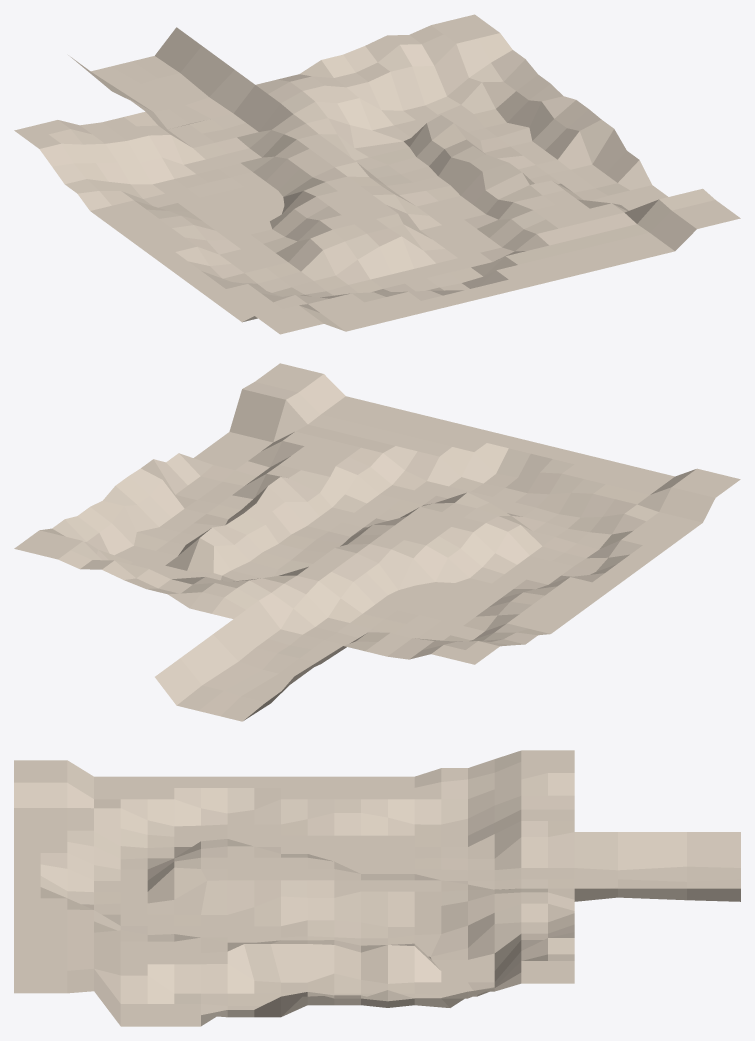
The model's file is 042020map01ShadowReceiveGroundPlane.gltf.
3 views of the same model, one above another, from view 1: azimuth 30°, elevation 25°; view 2: azimuth 150°, elevation 25°; view 3: azimuth 270°, elevation 25° (orthographic). The views are drawn at different scales.
Parts seen in each view (by area): view 1: Plane; view 2: Plane; view 3: Plane.
Part boxes in pixels (x1,y1,x2,y2): Plane: (14, 14, 740, 334); Plane: (14, 363, 740, 721); Plane: (14, 750, 740, 1026).
Size of the model in its own units: 60 by 5.47 by 77.79.
